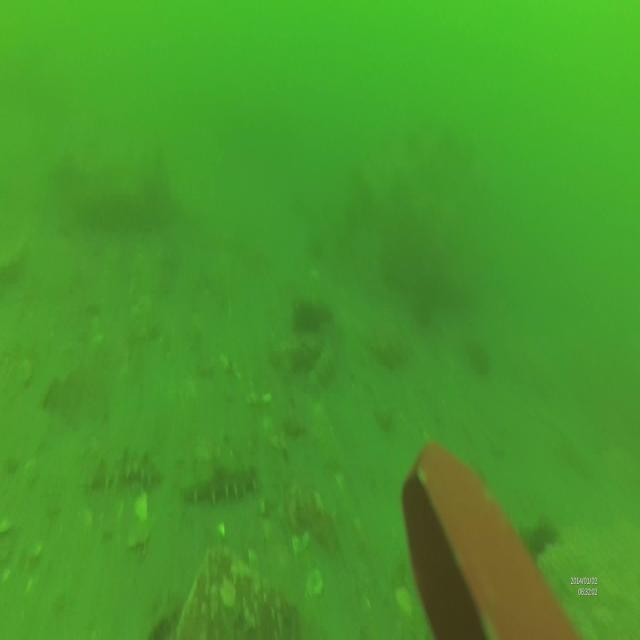echinus: (283, 297, 321, 338)
holothurian: (176, 466, 258, 506), (87, 451, 163, 492)
